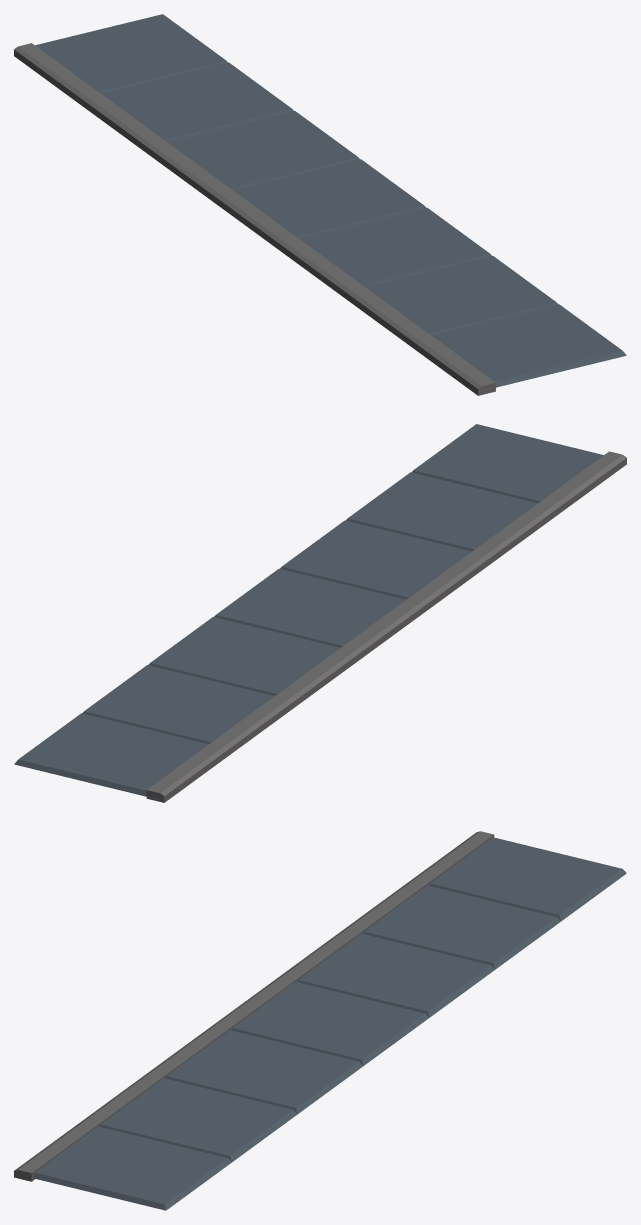
File: Sidewalk.fbx
The picture shows the model from 3 angles, top to bottom: view 1: azimuth 30°, elevation 25°; view 2: azimuth 150°, elevation 25°; view 3: azimuth 330°, elevation 25°; orthographic projection.
Parts seen in each view (by area): view 1: Curb; view 2: Curb; view 3: Curb.
Boxes of the visible parts, x1,y1,x2,y2 form: Curb: (14,14,626,395); Curb: (14,424,626,802); Curb: (14,831,626,1210).
Bounding box in the file's own units: 151 × 8.36 × 807.
